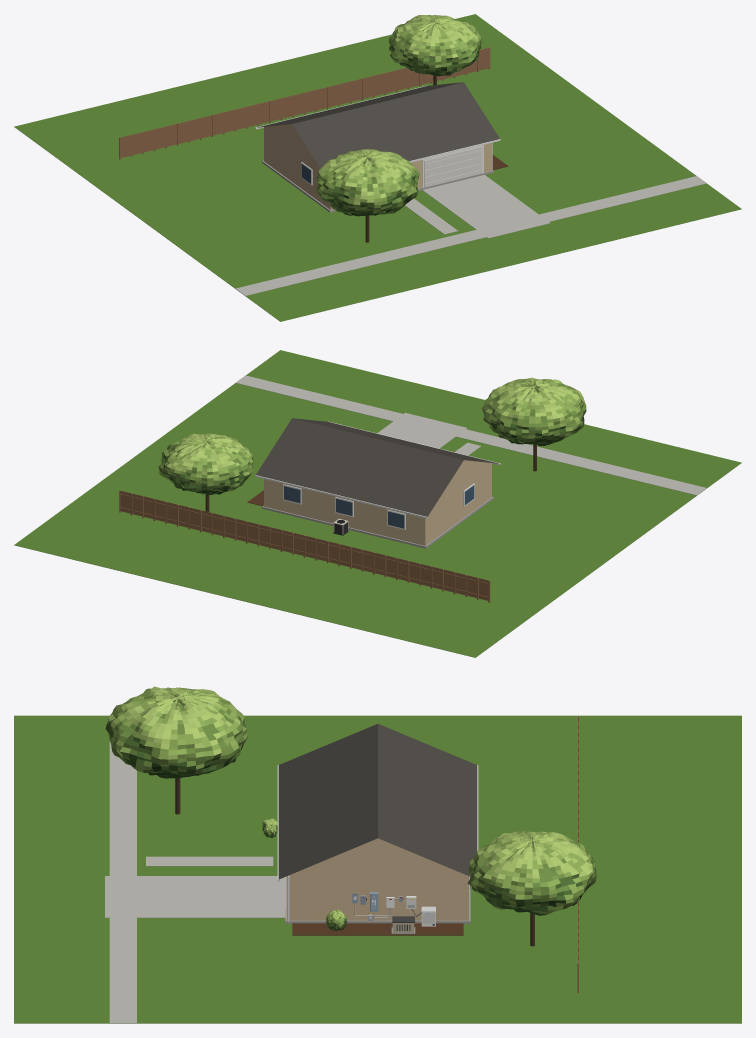
File: home_03_post_install.obj
The picture shows the model from 3 angles, top to bottom: view 1: azimuth 30°, elevation 25°; view 2: azimuth 150°, elevation 25°; view 3: azimuth 270°, elevation 25°; orthographic projection. The views are drawn at different scales.
Visible parts, largest first — view 1: yard, house, tree_2, tree_1; view 2: yard, house, tree_2, tree_1; view 3: yard, house, tree_2, tree_1, mulch_bed_side.
Part boxes in pixels (box(x1,y1,x2,y2)): yard: box(14, 14, 741, 321); house: box(255, 82, 500, 212); tree_2: box(315, 149, 419, 242); tree_1: box(388, 15, 482, 85); yard: box(14, 350, 741, 657); house: box(255, 418, 500, 548); tree_2: box(481, 377, 586, 471); tree_1: box(158, 433, 253, 511); yard: box(14, 715, 741, 1023); house: box(277, 724, 478, 923); tree_2: box(105, 686, 247, 814); tree_1: box(467, 830, 596, 946); mulch_bed_side: box(292, 923, 463, 935).
Size of the model in its own units: 40 by 7.13 by 40.
